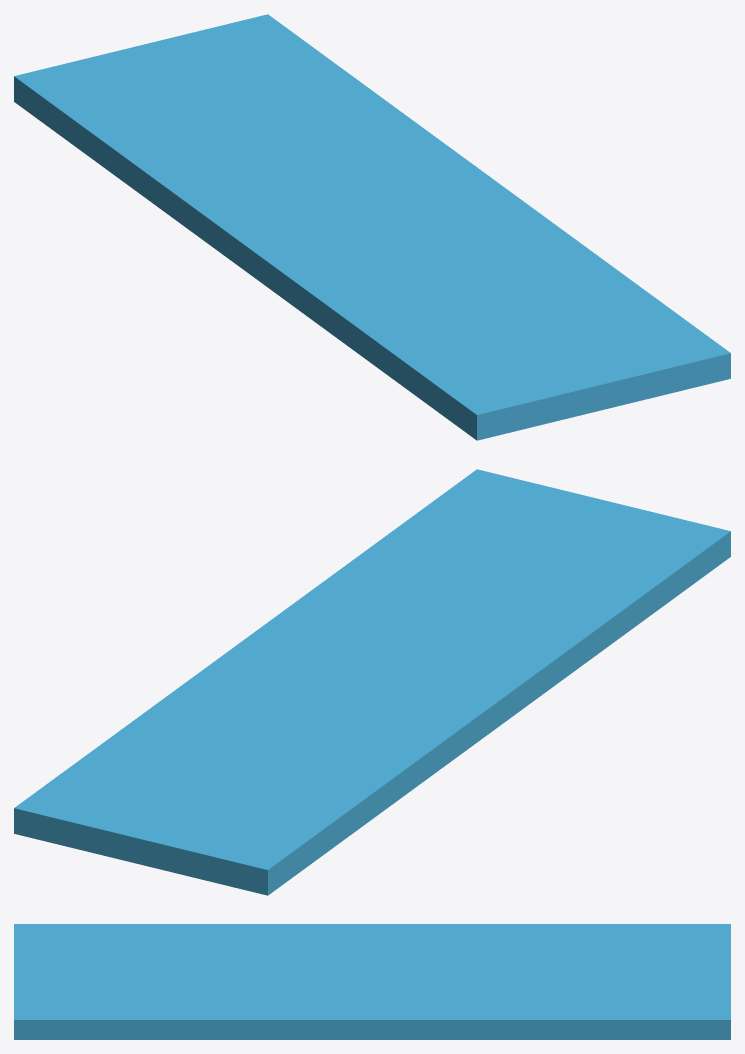
Rendered from flourescent_lights_forwhitebox.fbx.
3 renders of one model, top to bottom at view 1: azimuth 30°, elevation 25°; view 2: azimuth 150°, elevation 25°; view 3: azimuth 270°, elevation 25°, orthographic. The views are drawn at different scales.
Parts seen in each view (by area): view 1: polySurface1; view 2: polySurface1; view 3: polySurface1.
Part boxes in pixels (x1,y1,x2,y2): polySurface1: (14,14,730,440); polySurface1: (14,469,730,895); polySurface1: (14,924,730,1039).
Size of the model in its own units: 105 by 10.13 by 332.
